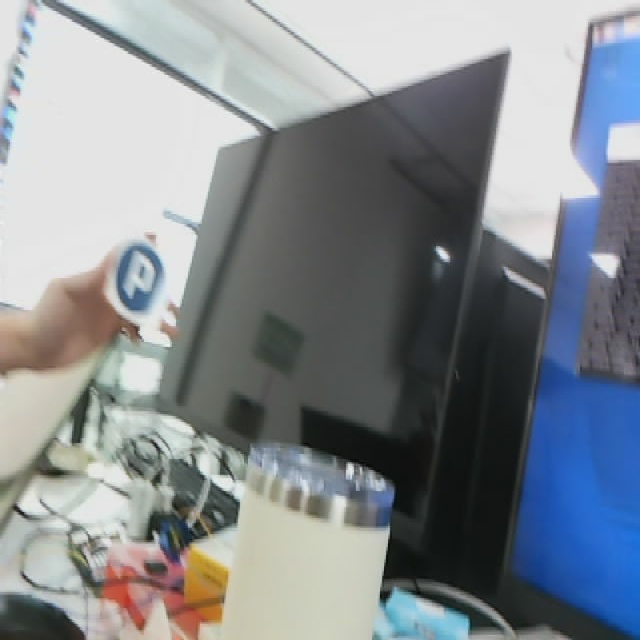parking: (97, 226, 178, 331)
